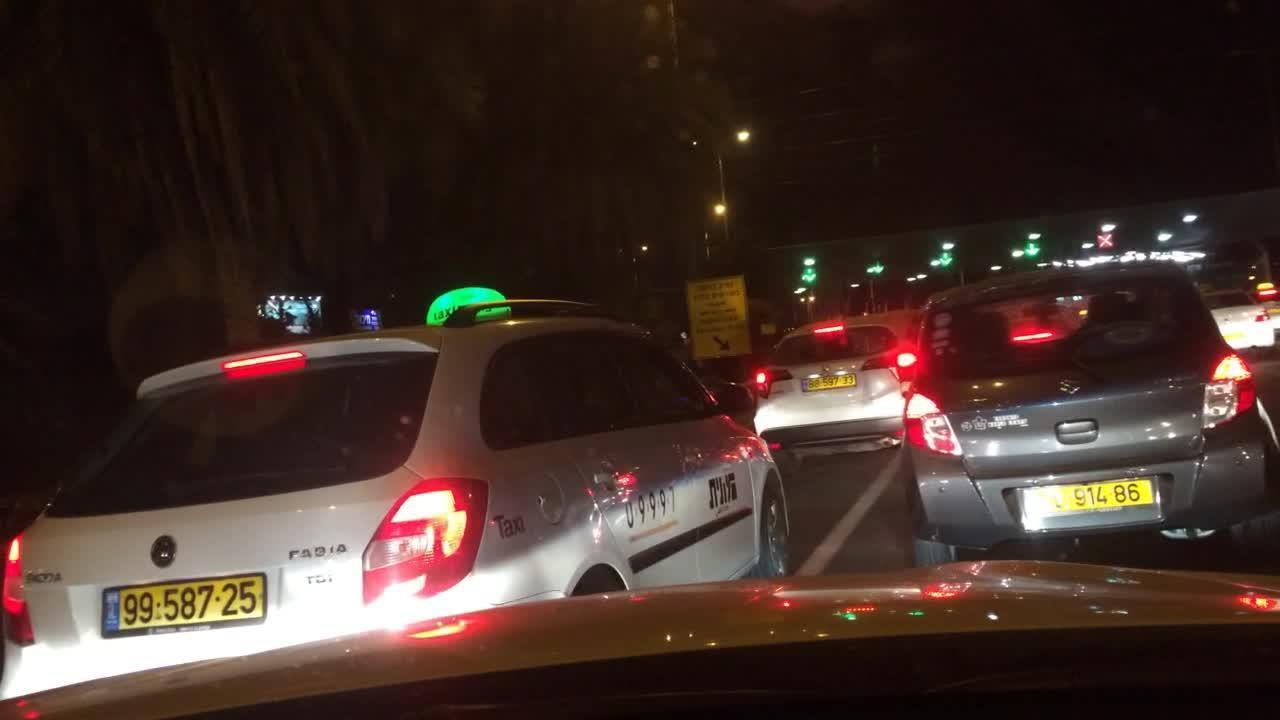suzuki: (1051, 369, 1092, 401)
